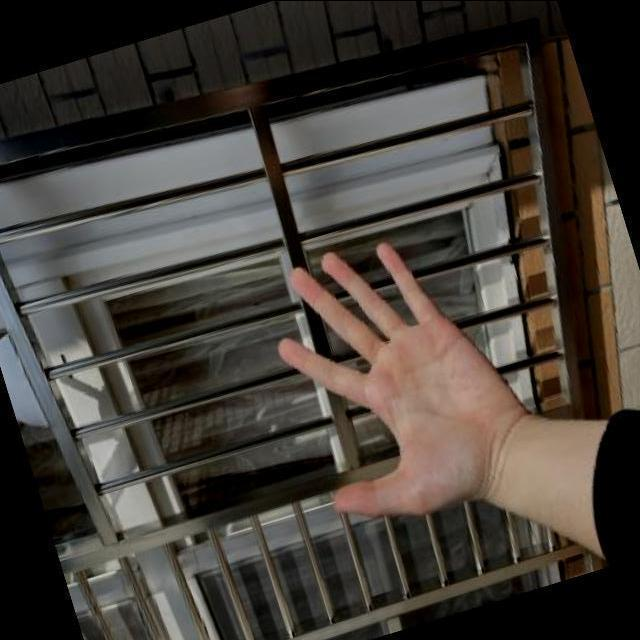hand: (238, 187, 563, 560)
